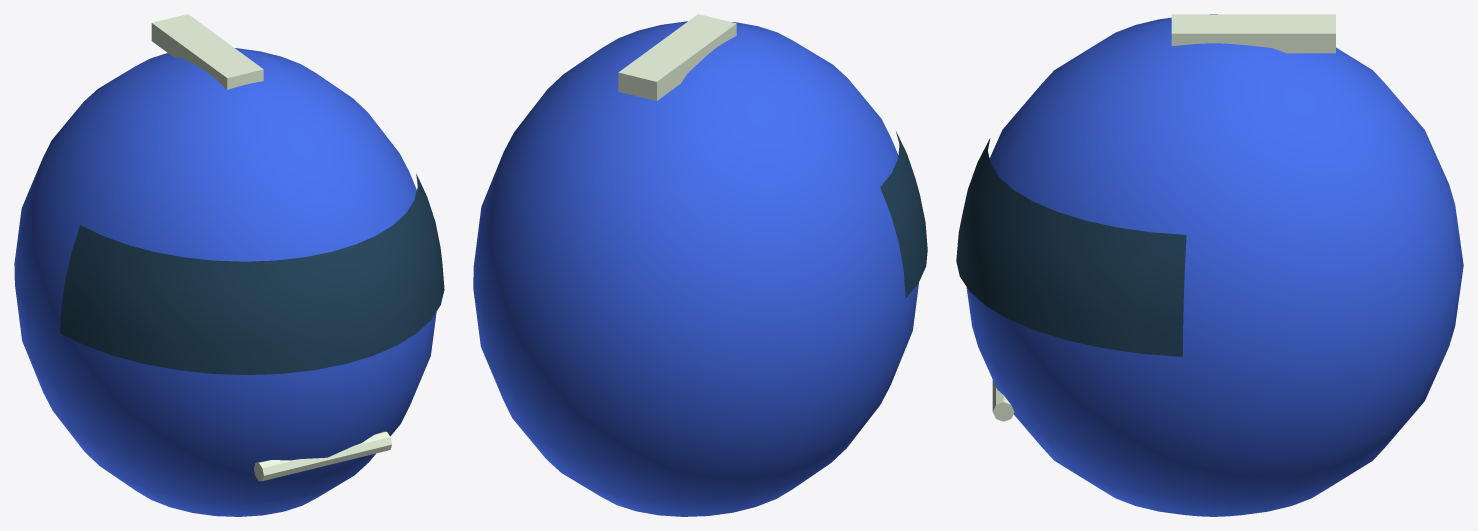
The model's file is ridge.glb.
The picture shows the model from 3 angles, left to right: view 1: azimuth 30°, elevation 25°; view 2: azimuth 150°, elevation 25°; view 3: azimuth 270°, elevation 25°; orthographic projection. The views are drawn at different scales.
Visible parts, largest first — view 1: Helmet; view 2: Helmet; view 3: Helmet.
Boxes of the visible parts, x1,y1,x2,y2 form: Helmet: (14,14,444,516); Helmet: (473,14,927,516); Helmet: (956,14,1463,516).
Bounding box in the file's own units: 0.25 × 0.288 × 0.278.
